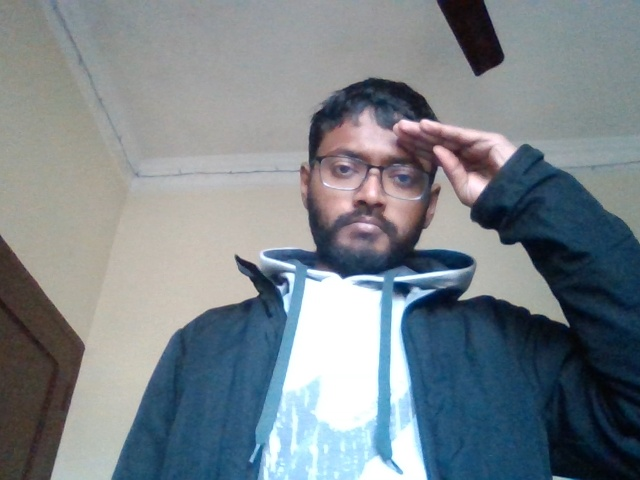salam: (393, 94, 528, 199)
